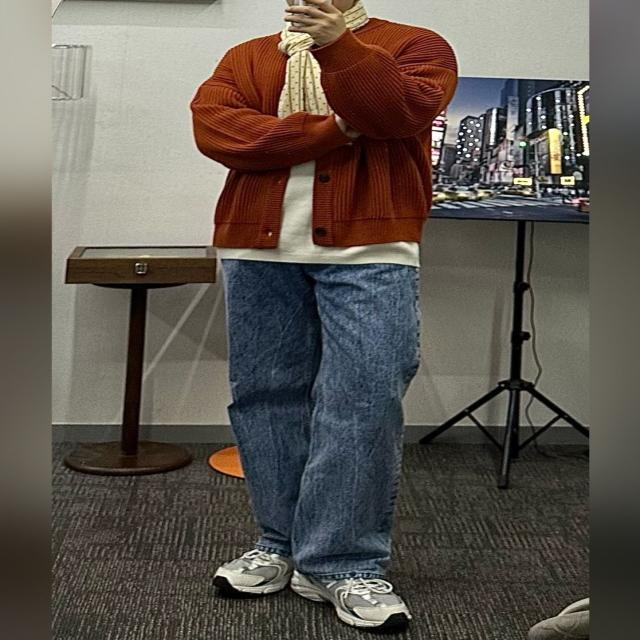cardigan: (189, 14, 460, 249)
denimpants: (215, 258, 424, 580)
